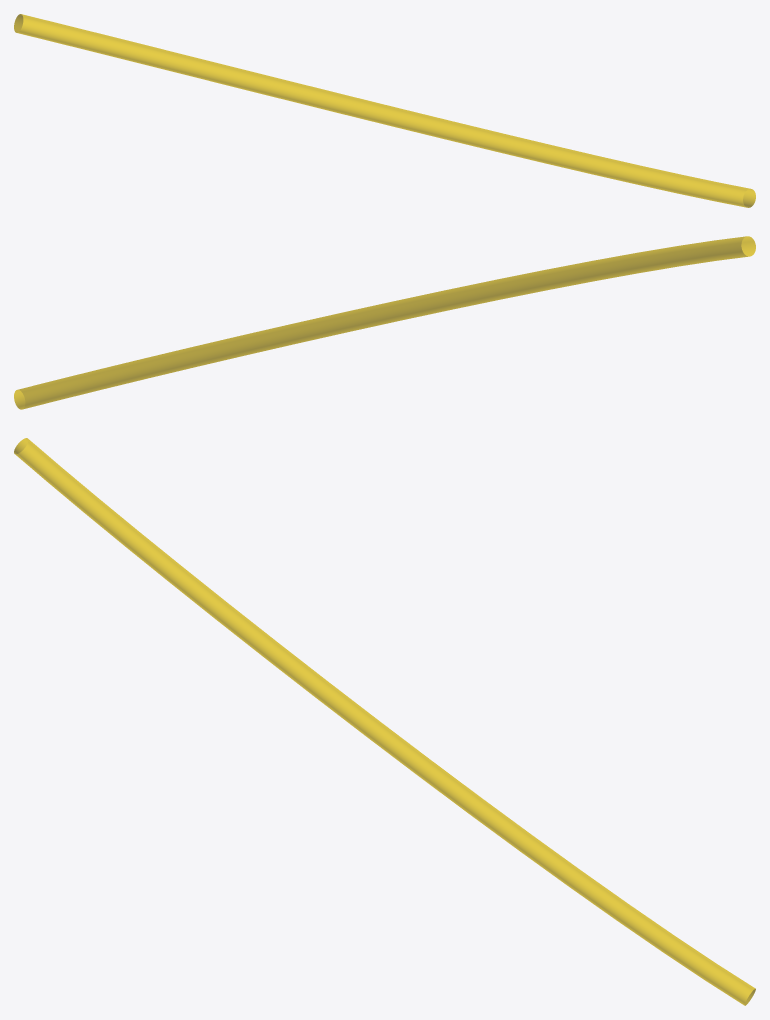
Rendered from Event_84804159_track_41.fbx.
The picture shows the model from 3 angles, top to bottom: view 1: azimuth 30°, elevation 25°; view 2: azimuth 150°, elevation 25°; view 3: azimuth 330°, elevation 25°; orthographic projection. The views are drawn at different scales.
Parts seen in each view (by area): view 1: Model; view 2: Model; view 3: Model.
Boxes of the visible parts, x1,y1,x2,y2 form: Model: [14, 14, 755, 207]; Model: [14, 236, 755, 409]; Model: [14, 438, 755, 1005].
Size of the model in its own units: 1.71 by 0.7949 by 0.143.
